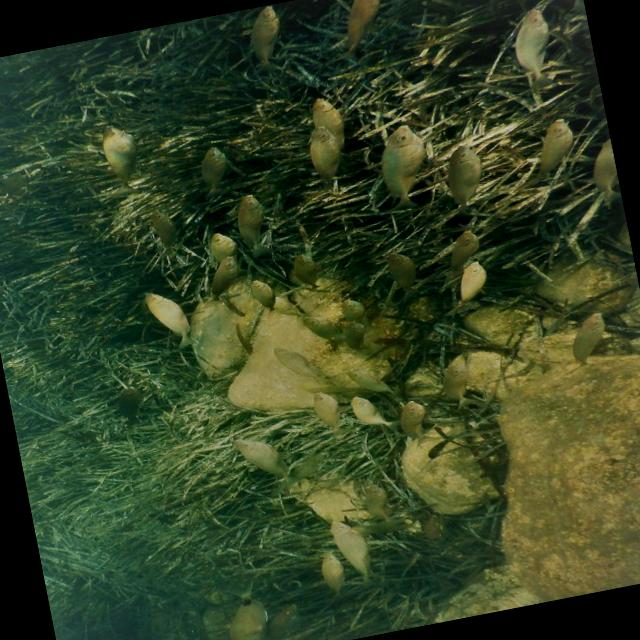Sokar Baligi: (480, 0, 581, 104), (355, 114, 451, 222)
